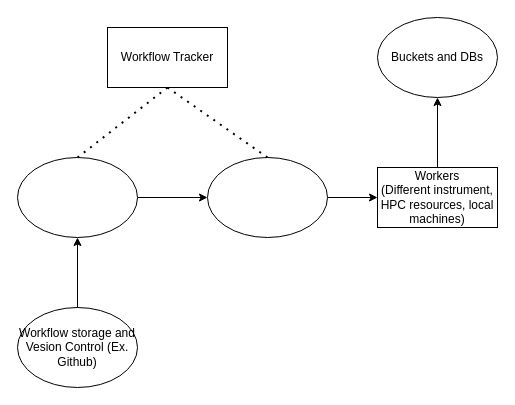
This 515x405 diagram has some shape labels left out. Each missing label, with the box of its shape:
Work Pool with Schduler: (206, 156, 328, 238)
Workflows (Code): (16, 156, 138, 238)
